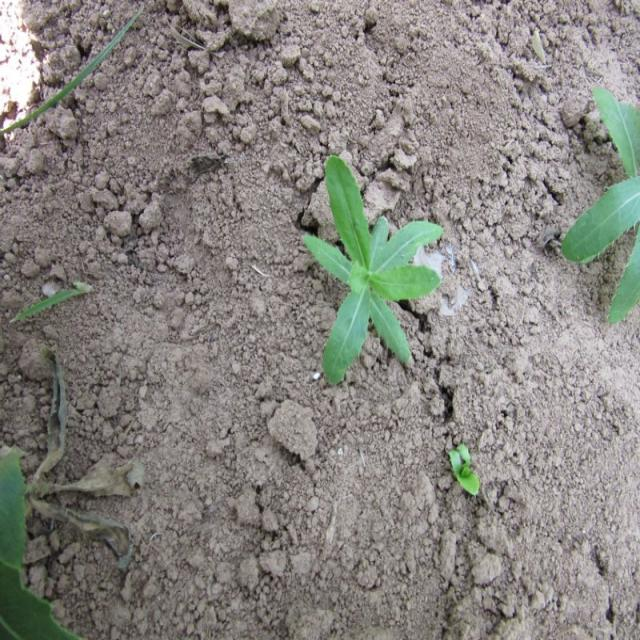field_thistle: (304, 119, 462, 396)
